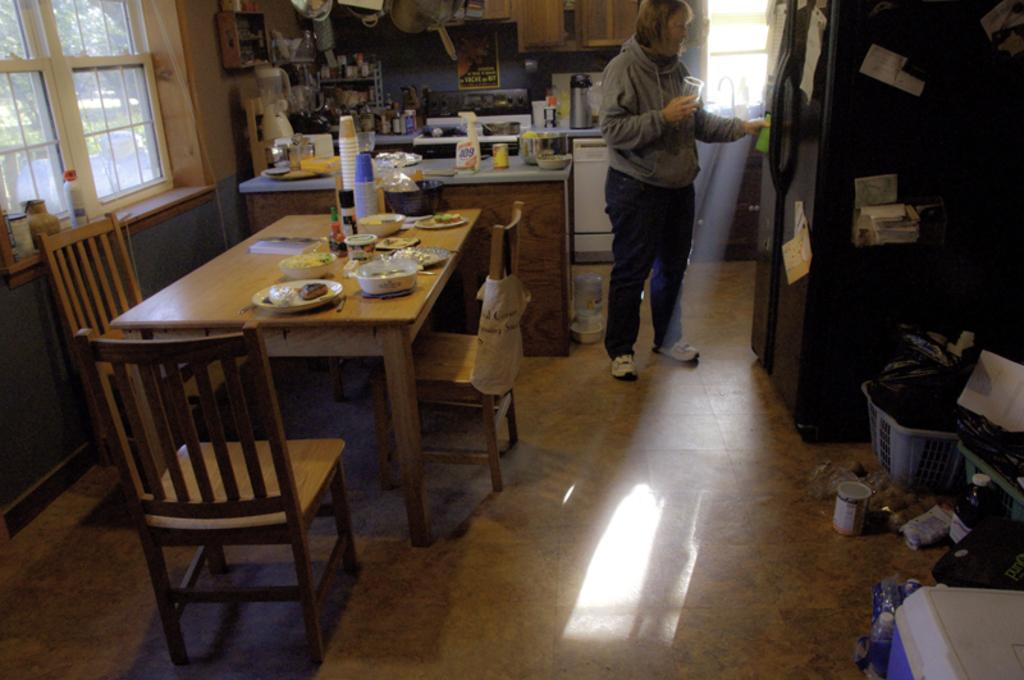Chair: (73, 320, 360, 665), (369, 200, 524, 492)
